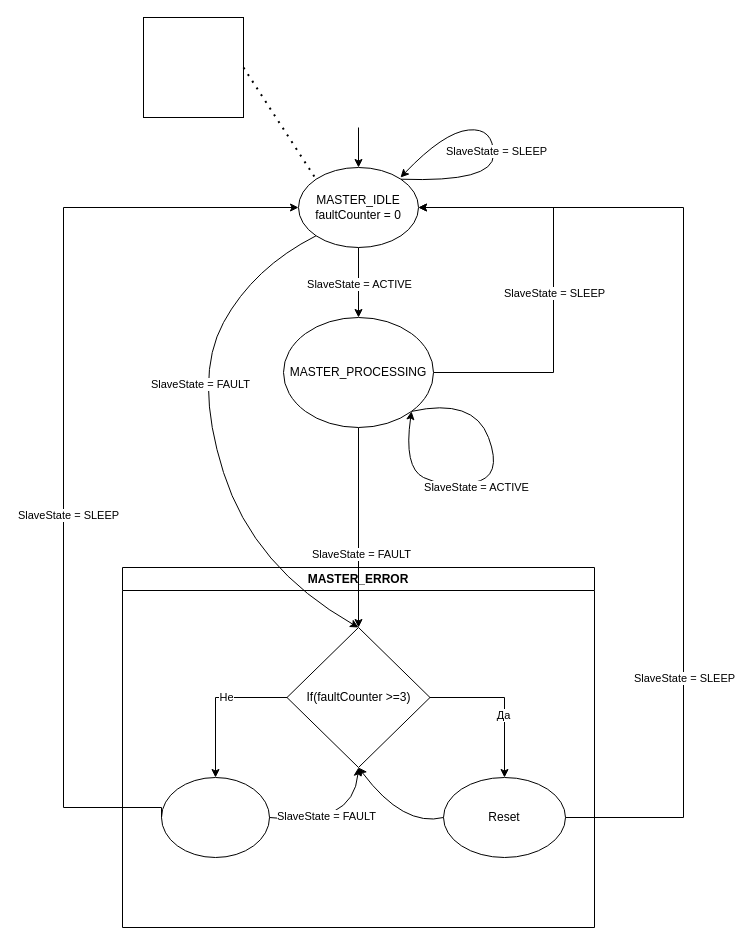
This 752x945 diagram has some shape labels left out. Here are the shapes that lost their labels. From the top down, the centre of each, then its label:
pixel 193 67: Default state Fault counter 0 Slave state: Sleep
pixel 215 817: MASTER_ERROR faultCounter++
